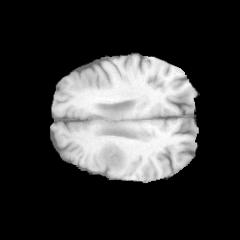glioma: (97, 142, 126, 170)
